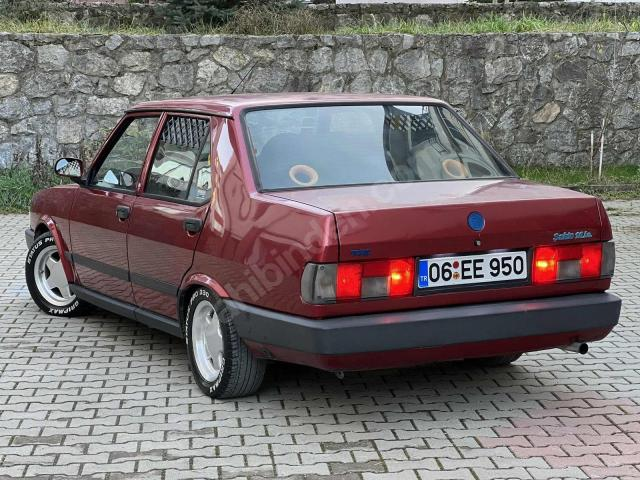plaka: (418, 251, 528, 288)
